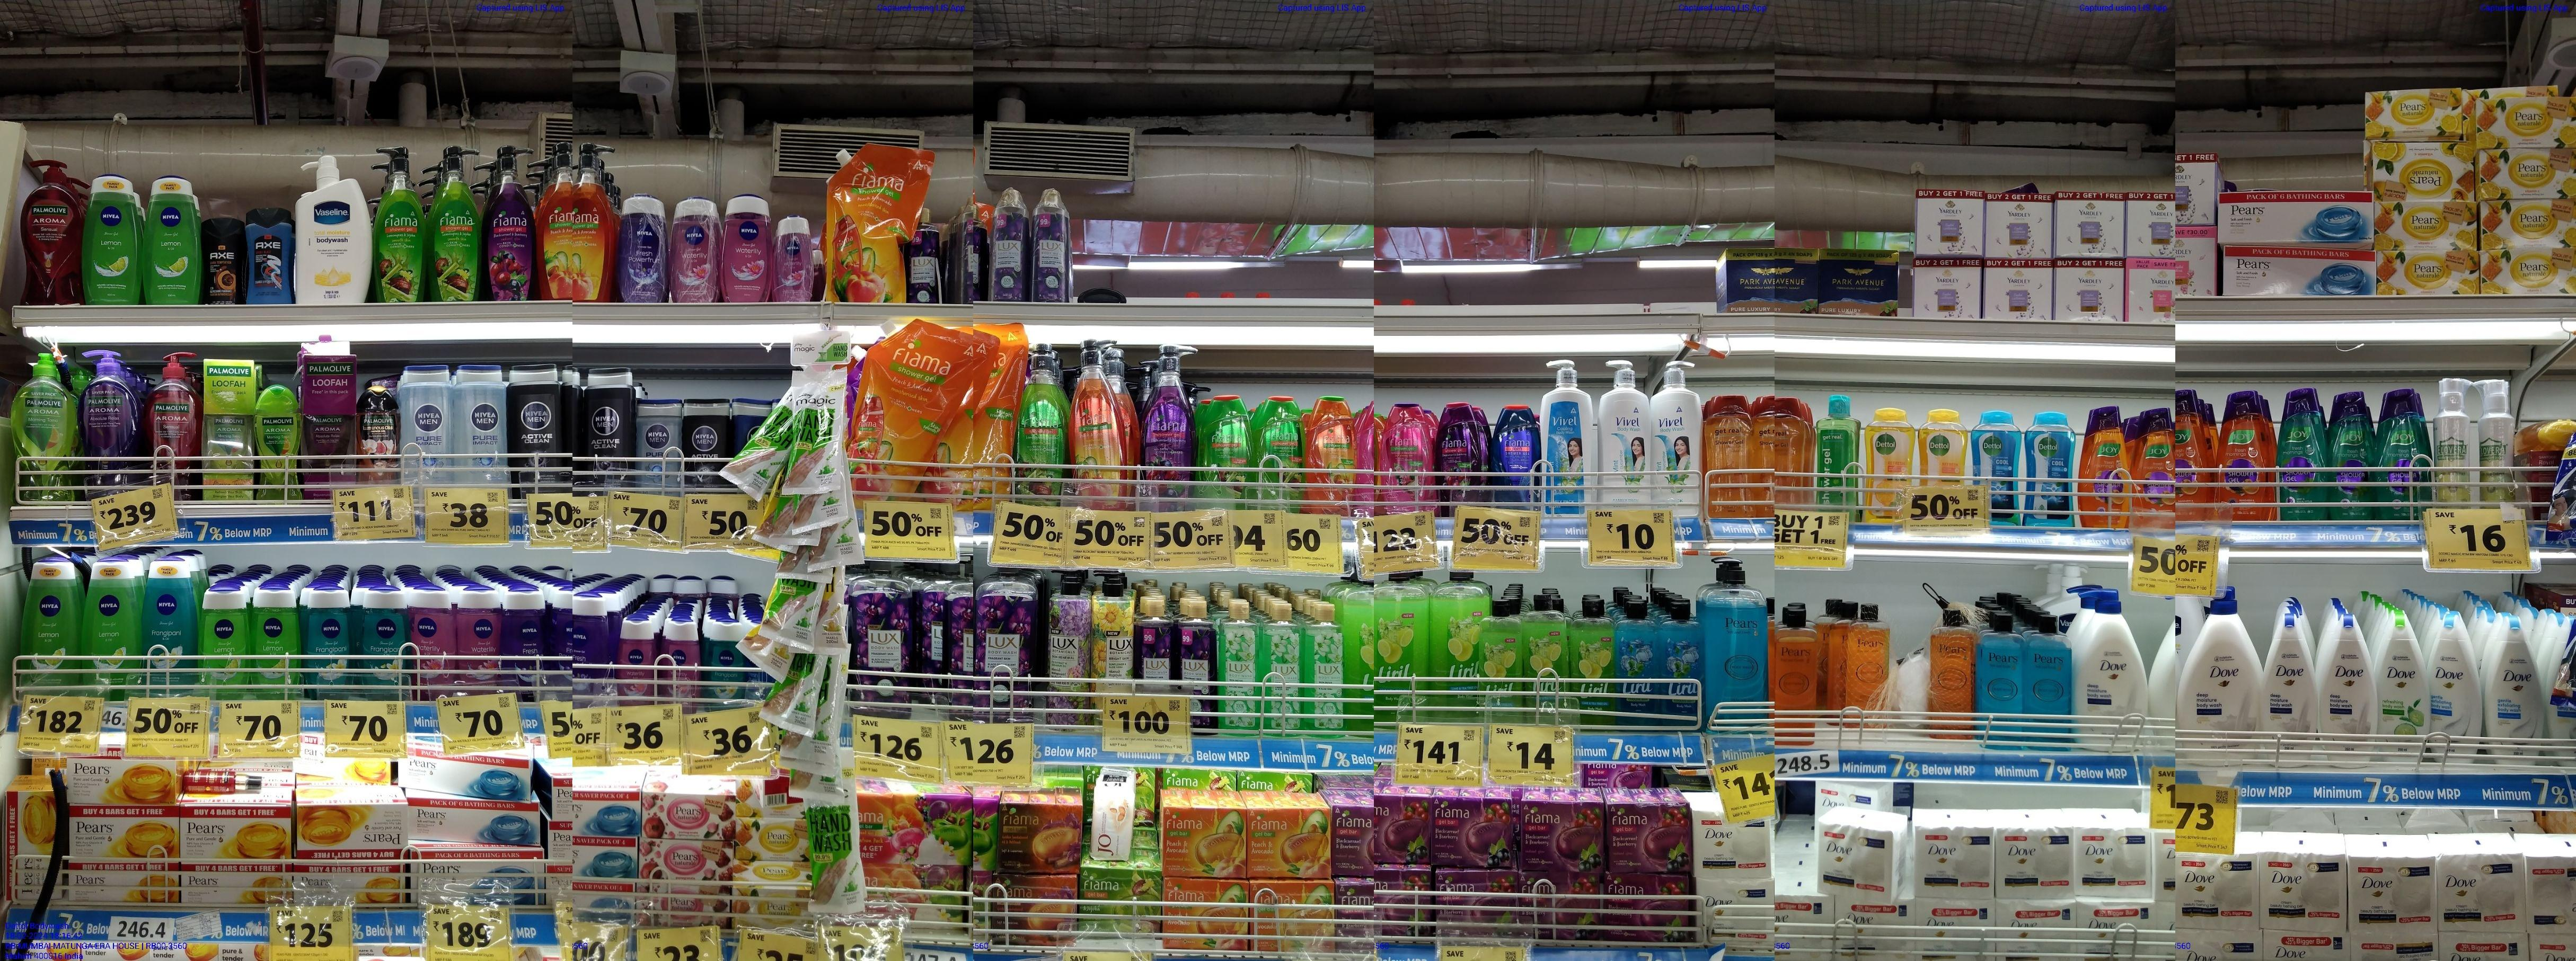Dettol_Bodywash_Cool: (2024, 411, 2075, 529), (1973, 412, 2022, 529)
Dettol_Bodywash_Refresh: (1870, 406, 1914, 524), (1917, 409, 1966, 488)
Dove_Deep_Moisture_Body_Wash_250ML: (2262, 611, 2320, 769), (2321, 618, 2376, 769)
Dove_Gentle_Exfoliating_Body_Wash_250ML: (2487, 618, 2546, 770), (2431, 613, 2484, 764)
Dove_Refreshing_Body_Wash_250ML: (2379, 609, 2430, 767)
Fiama_Shower_Gel_Lemongrass_and_Jojoba_250ML: (1199, 396, 1252, 506), (1255, 399, 1301, 514)
Fiama_Shower_Gel_Patchouli_and_Macadamia_250ML: (1382, 402, 1434, 513)
Fiama_Shower_Gel_Peach_and_Avocado_250ML: (1308, 396, 1359, 514)
Get_Real_Shower_Gel_Moisturising_Glycerin_300ML: (1704, 391, 1755, 519)
Joy_Shower_Gel_Mandarin_and_Lemongrass_250ML: (2216, 388, 2272, 519), (2080, 411, 2131, 529), (2177, 386, 2211, 522), (2136, 409, 2173, 527)
Joy_Shower_Gel_Mint_and_Eucalyptus_250ML: (2379, 391, 2435, 519), (2275, 388, 2326, 519), (2330, 393, 2376, 517)
Liril_Cooling_Mint_Body_Wash_250ML: (1618, 595, 1661, 724), (1663, 600, 1700, 721)
Liril_Lime_and_Tea_Tree_Oil_Body_Wash_250ML: (1572, 598, 1617, 726), (1480, 600, 1526, 723), (1526, 596, 1571, 723)
Lux_Black_Orchid_Scent_and_Juniper_Oil_Body_Wash_245ML: (1176, 600, 1212, 731), (1137, 598, 1173, 693)
Lux_Body_Wash_Skin_Detox_Freesia_Scent_and_Alove_Vera_245ML: (1217, 601, 1258, 733), (1260, 601, 1301, 733), (1301, 601, 1341, 731)
Nivea_Shower_Gel_Frangipani_and_Oil_250ML: (145, 559, 195, 692), (306, 588, 355, 698), (361, 586, 409, 698)
Nivea_Shower_Gel_Fresh_Powerfruit_250ML: (619, 194, 665, 302)
Nivea_Shower_Gel_Lemon_and_Oil_250ML: (20, 562, 79, 692), (145, 174, 200, 307), (85, 177, 138, 302), (84, 563, 135, 690), (250, 583, 299, 700), (195, 585, 245, 698)
Nivea_Shower_Gel_Waterlily_and_Oil_250ML: (411, 583, 458, 698), (672, 197, 721, 302), (723, 195, 767, 302), (458, 586, 498, 692)
Palmolive_Aroma_Morning_Tonic_Shower_Gel_250ML: (256, 384, 306, 499)
Palmolive_Luminous_Oils_With_White_Orchid_Shower_Gel_250ML: (355, 386, 399, 483)
Pears_Pure_Glycerin_and_Mint_Extracts_Body_Wash_250ML: (1976, 606, 2024, 747), (2024, 613, 2072, 744)
